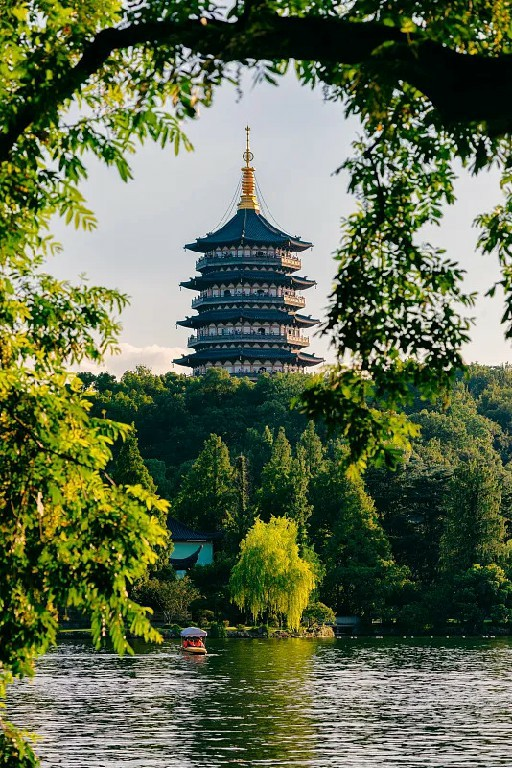Leifeng: (169, 125, 325, 380)
